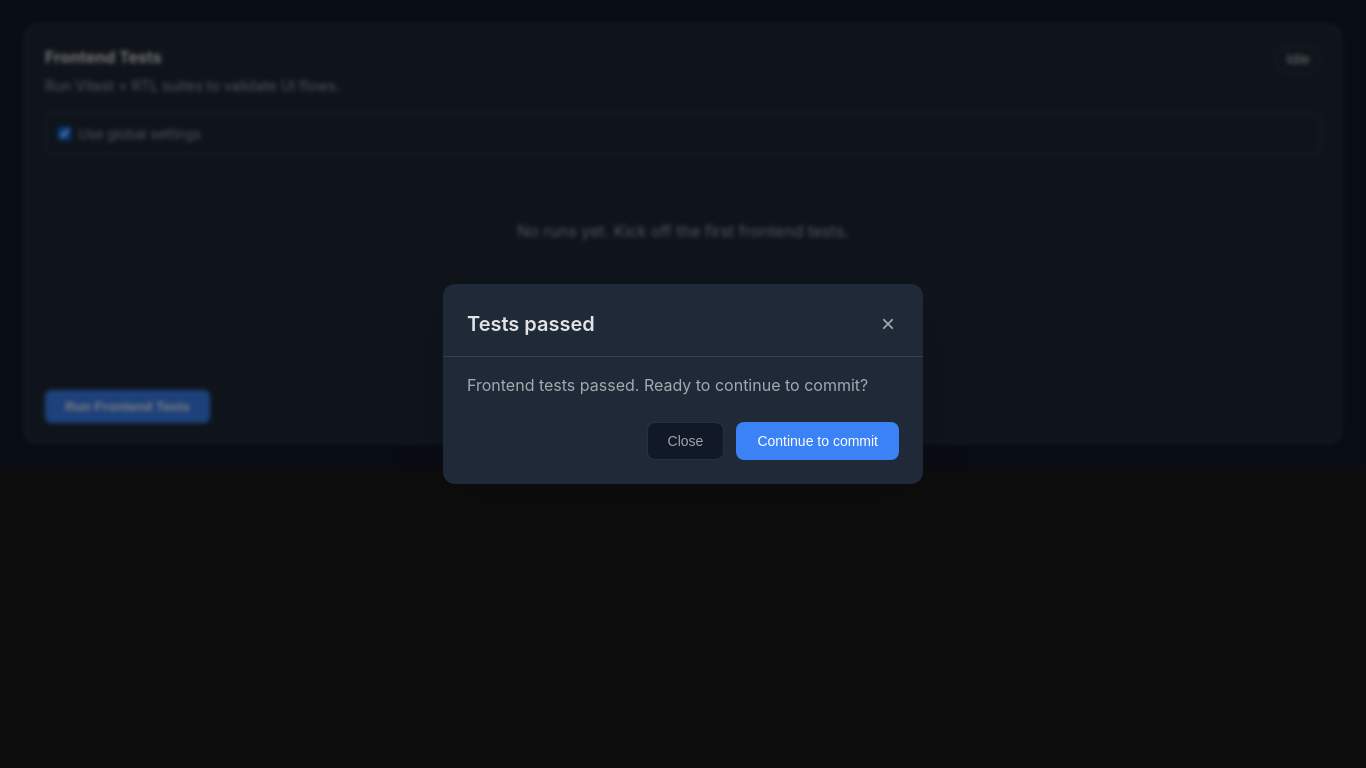
Test: coverage shard 0.4.9 › shows frontend proof guidance when backend is disabled
Check: the element with test id "modal-content" is shown, box [443, 284, 923, 484]
Click the button with test id "modal-confirm": [818, 441] box [736, 422, 899, 460]
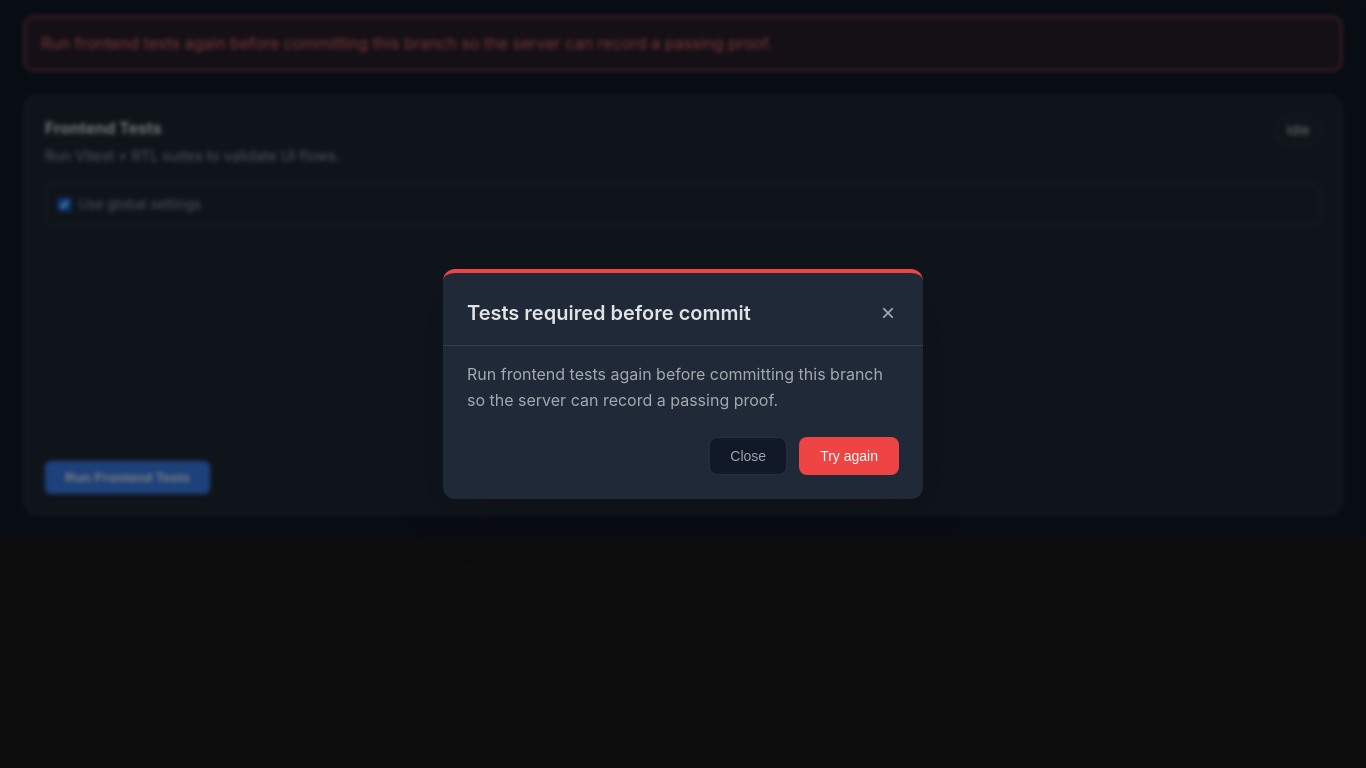
Check: the heading "Tests required before commit" is shown, box [467, 298, 751, 328]
Check: the text "Run frontend tests again before committing this branch so the server can record a passing proof." is shown, box [467, 364, 883, 410]
